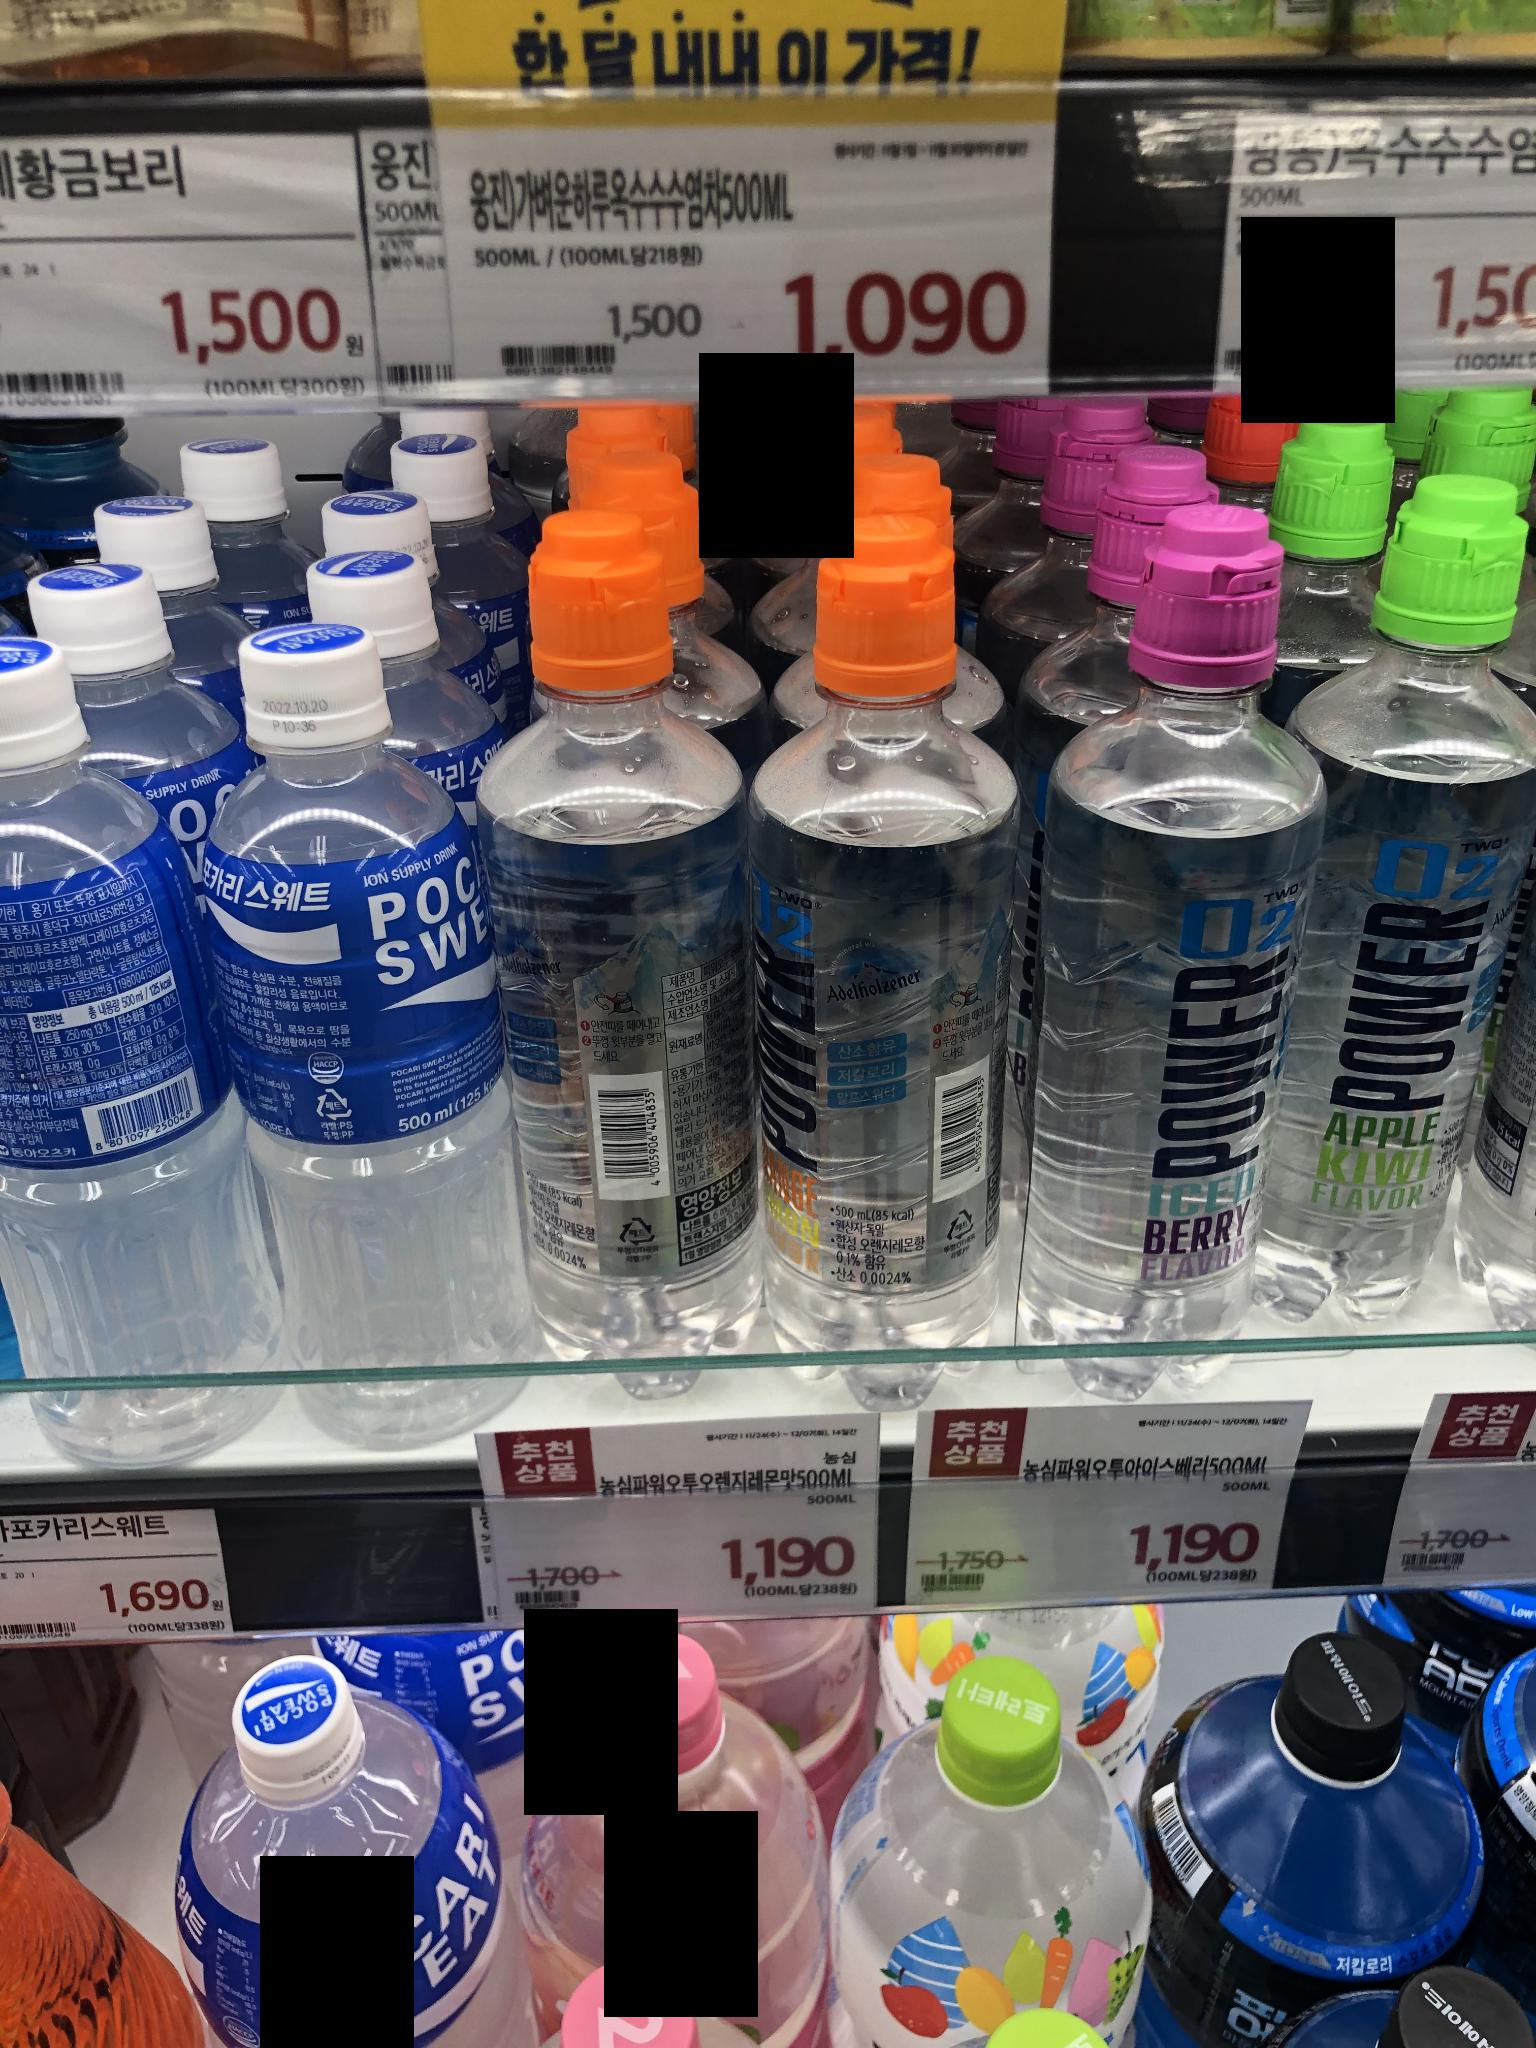pocarisweat: (150, 605, 524, 1471)
powerO2_orange: (739, 529, 1054, 1385), (495, 553, 749, 1413)
